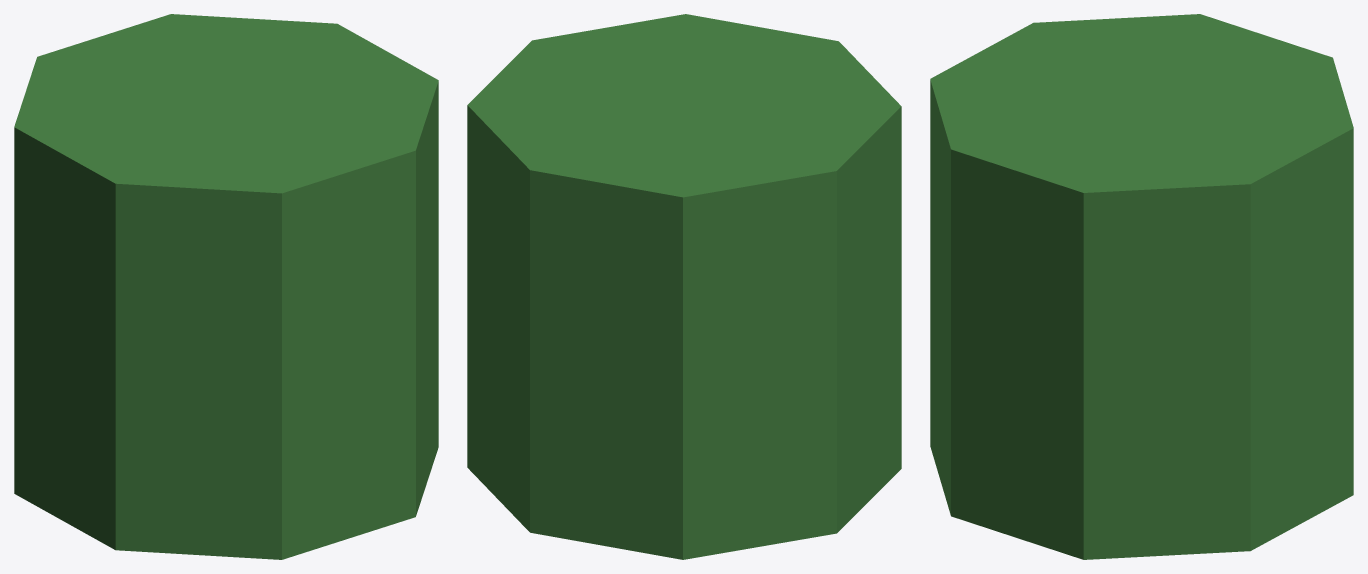
Rendered from FatPiller.fbx.
The picture shows the model from 3 angles, left to right: view 1: azimuth 30°, elevation 25°; view 2: azimuth 150°, elevation 25°; view 3: azimuth 270°, elevation 25°; orthographic projection.
Visible parts, largest first — view 1: Cylinder.008; view 2: Cylinder.008; view 3: Cylinder.008.
Part boxes in pixels (<box>): Cylinder.008: <box>14,14,438,559</box>; Cylinder.008: <box>467,14,901,559</box>; Cylinder.008: <box>930,14,1353,559</box>.
Bounding box in the file's own units: 558 × 534 × 558.
